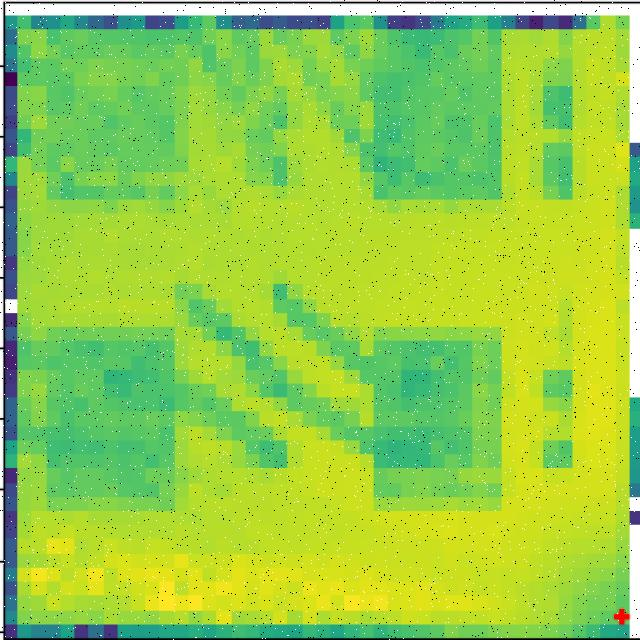Concrete: (47, 326, 178, 505)
Glass: (378, 326, 502, 501)
Metal: (48, 33, 191, 203)
Wood: (375, 35, 502, 200)
